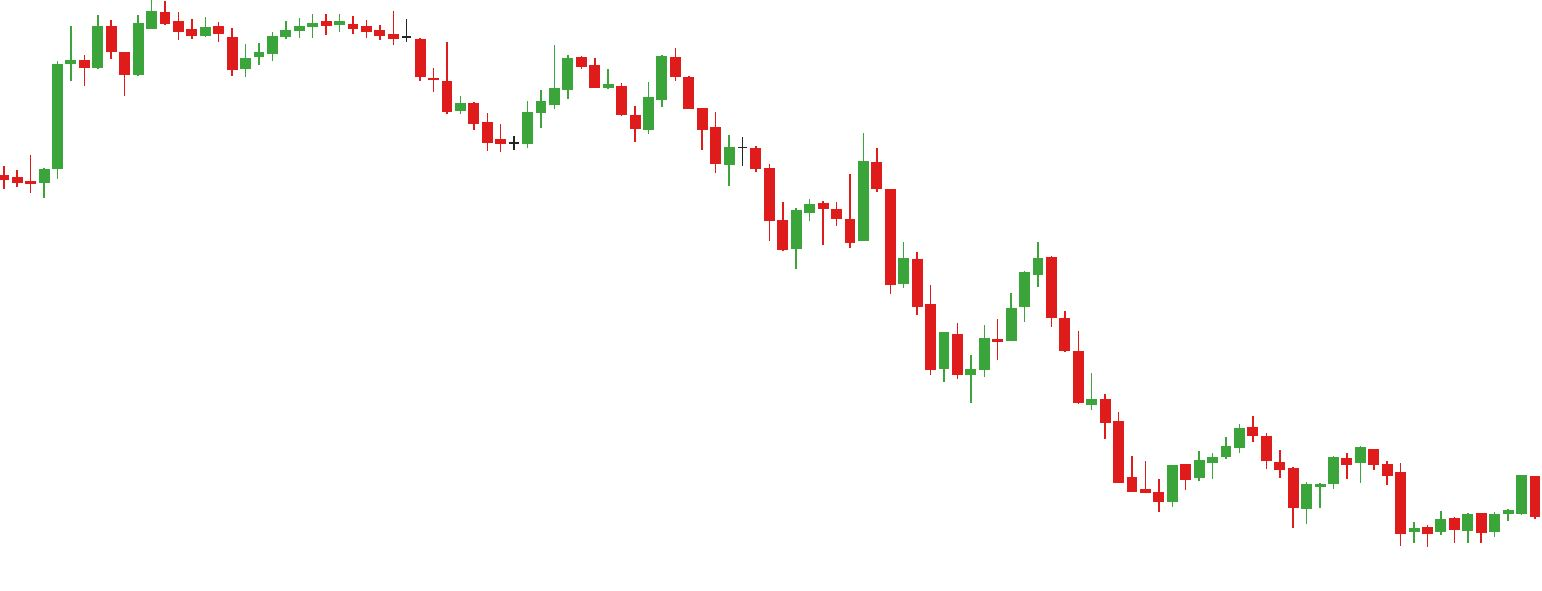buy: (1286, 463, 1448, 552)
sell: (737, 132, 885, 223), (560, 42, 685, 114)
